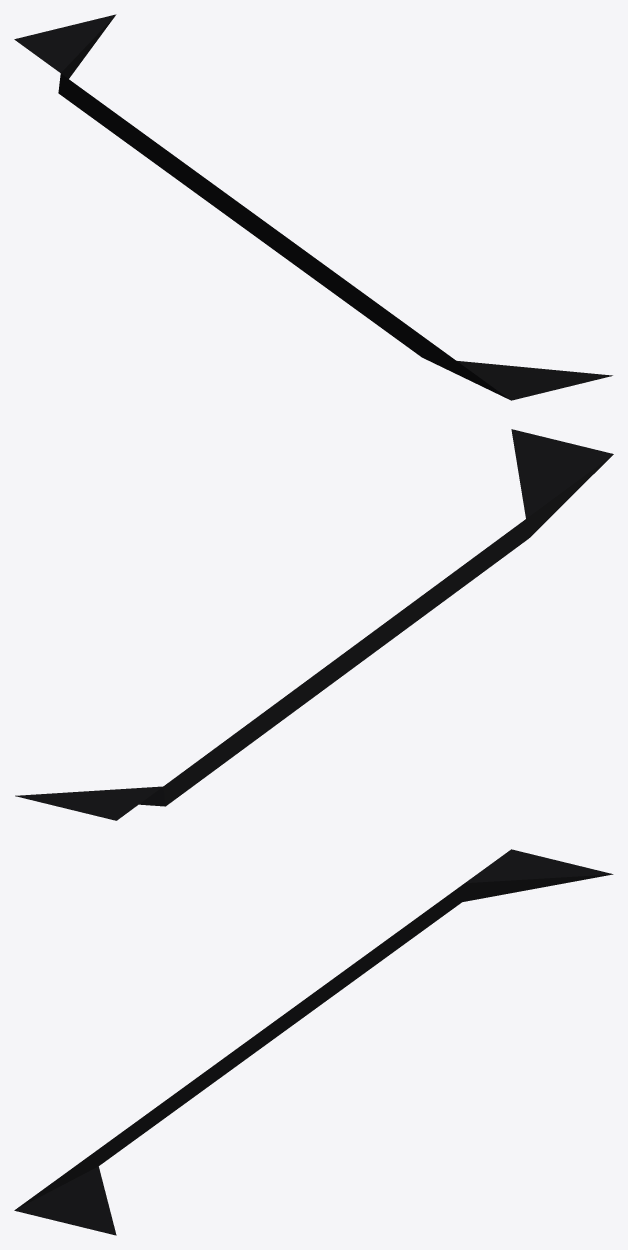
File: skirt_L_skirt.glb
3 views of the same model, one above another, from view 1: azimuth 30°, elevation 25°; view 2: azimuth 150°, elevation 25°; view 3: azimuth 330°, elevation 25° (orthographic).
Visible parts, largest first — view 1: skirt_L_skirt; view 2: skirt_L_skirt; view 3: skirt_L_skirt.
Part boxes in pixels (left/top/right/bottom): skirt_L_skirt: left=14, top=14, right=612, bottom=400; skirt_L_skirt: left=15, top=429, right=613, bottom=820; skirt_L_skirt: left=14, top=849, right=613, bottom=1235.
Size of the model in its own units: 0.225 by 0.0451 by 1.85.
Materials: 1 (1 with a texture image).
